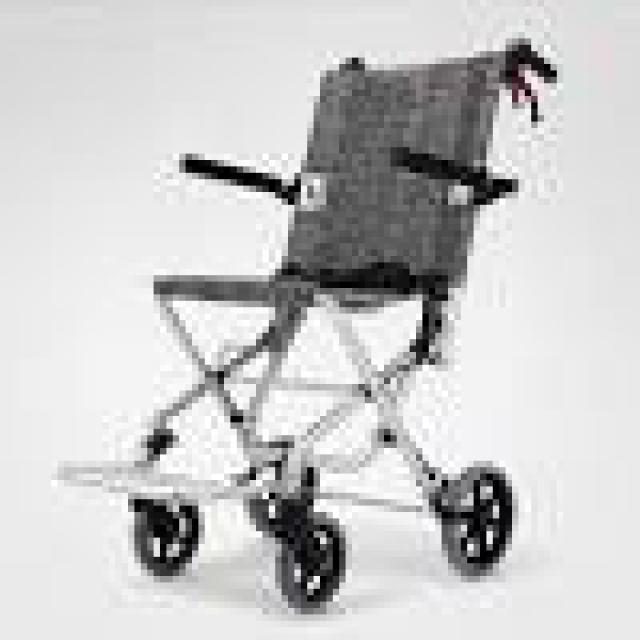wheelchair: (32, 26, 544, 608)
